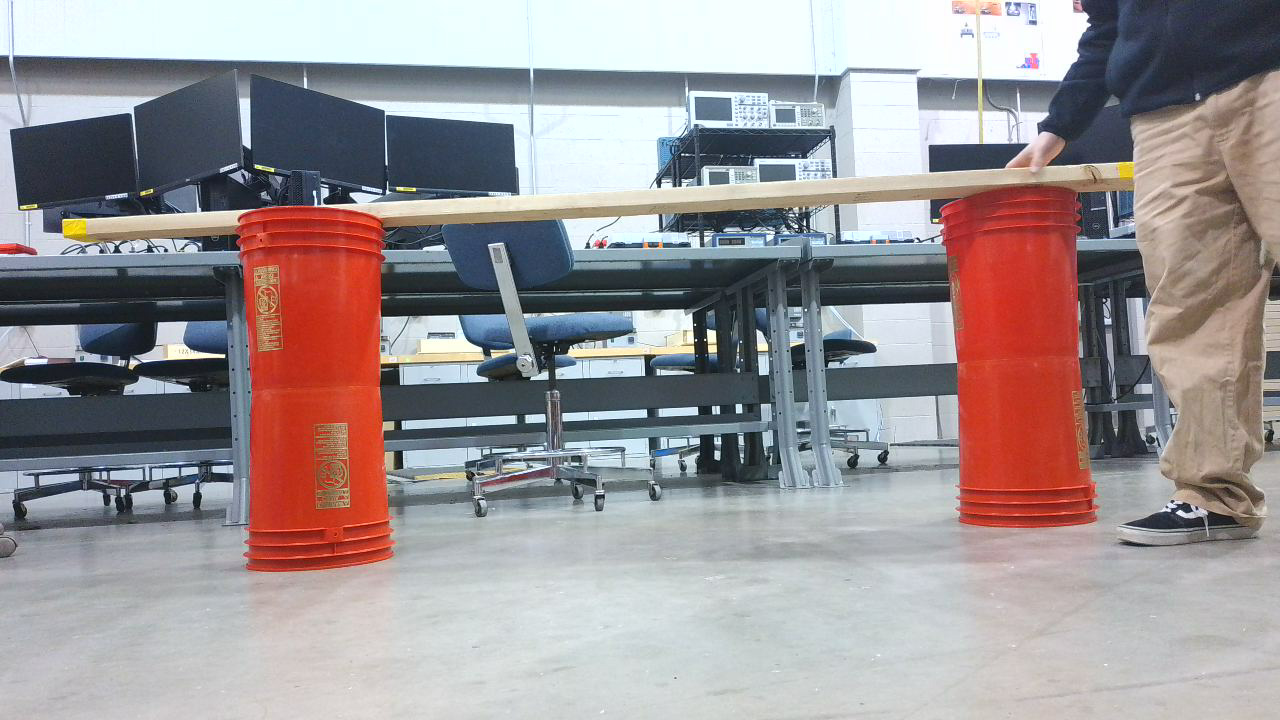red_bucket_arch: (237, 168, 1108, 581)
